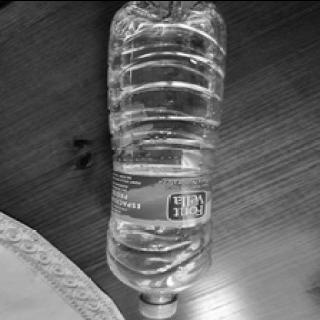plastic_bottles: (105, 0, 224, 320)
